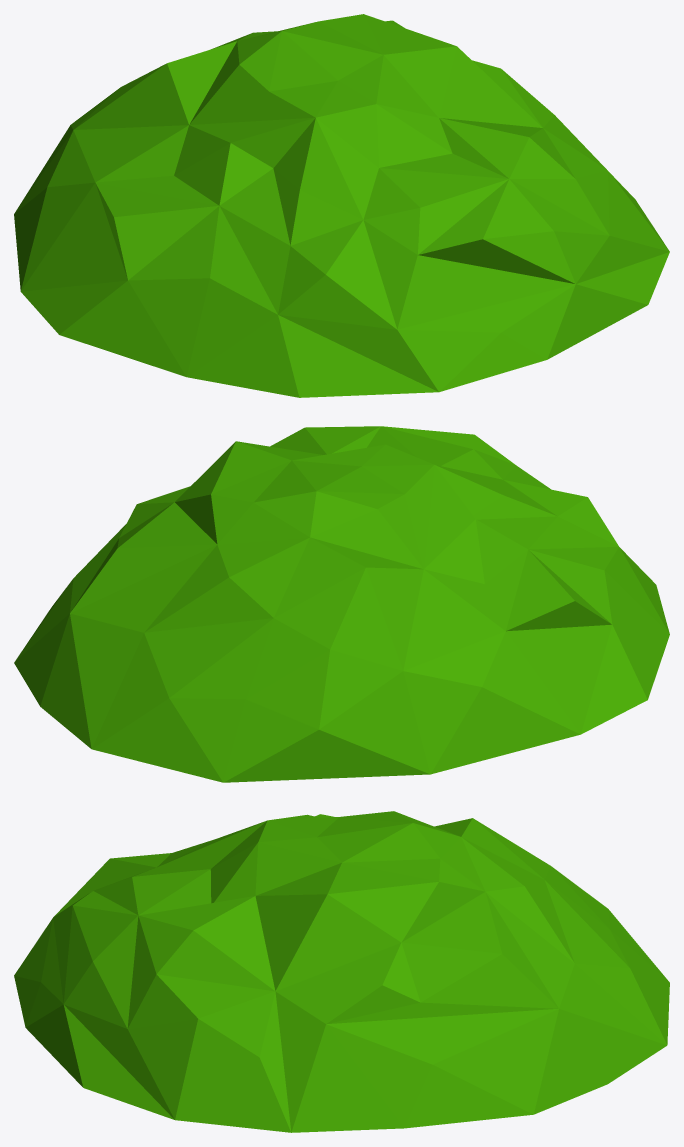
The model's file is GEO_leaf_02.fbx.
3 renders of one model, top to bottom at view 1: azimuth 30°, elevation 25°; view 2: azimuth 150°, elevation 25°; view 3: azimuth 270°, elevation 25°, orthographic. The views are drawn at different scales.
Visible parts, largest first — view 1: GEO_leaf_02; view 2: GEO_leaf_02; view 3: GEO_leaf_02.
Boxes of the visible parts, x1,y1,x2,y2 form: GEO_leaf_02: (14, 14, 669, 397); GEO_leaf_02: (14, 426, 669, 782); GEO_leaf_02: (14, 811, 669, 1132).
Bounding box in the file's own units: 109 × 34.8 × 116.
